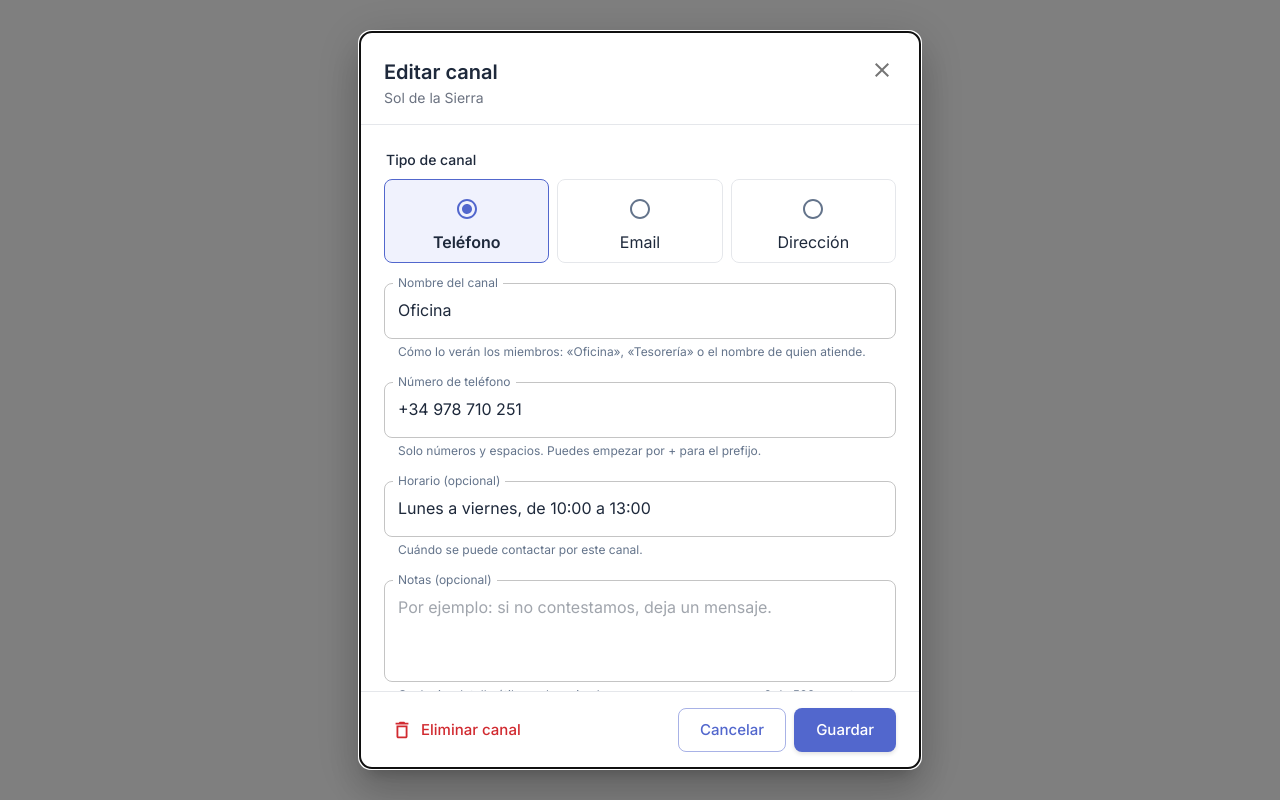
Scenario: ContactChannelEditor › AC10 closing › asks before closing with changes, from Cerrar
Type " y jueves" into the field labelled "Horario (opcional)" at (640, 509), box [384, 481, 896, 537]
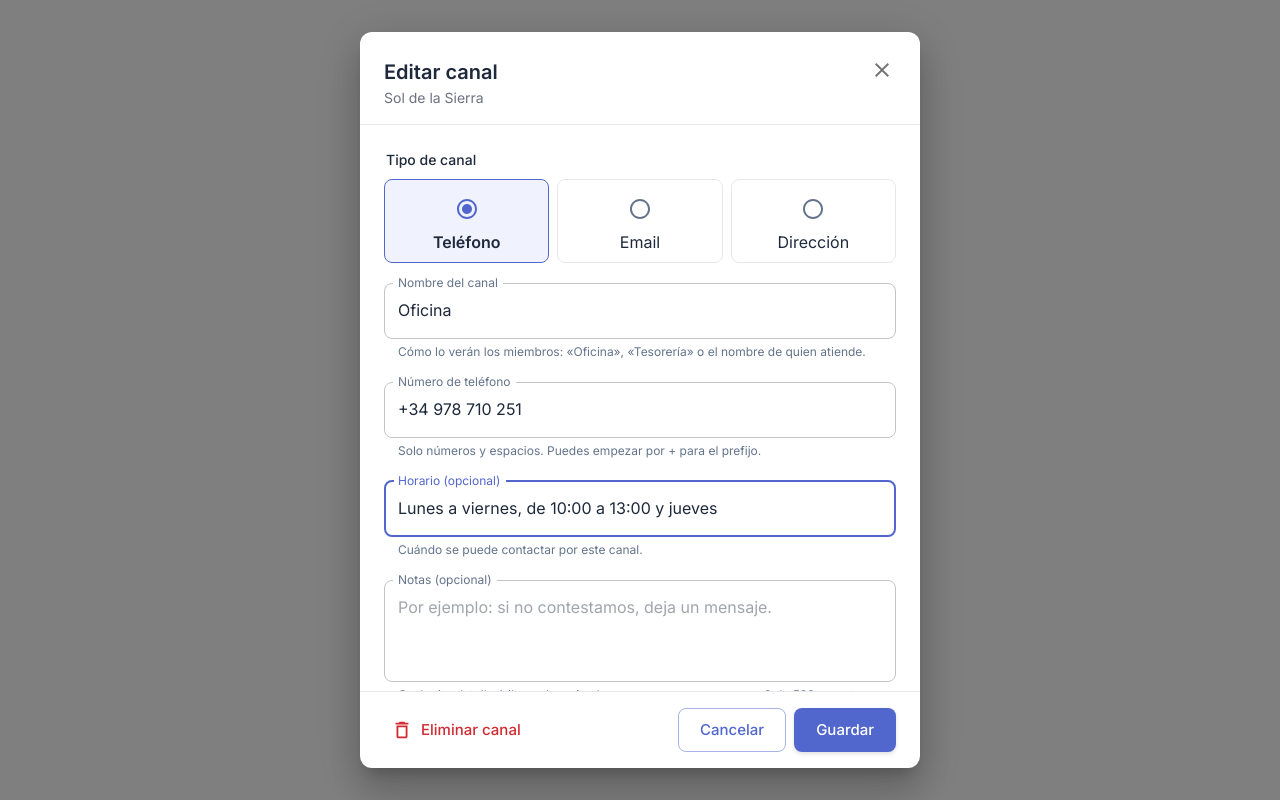
Click the button named "Cerrar" at (882, 70), box [860, 48, 904, 92]
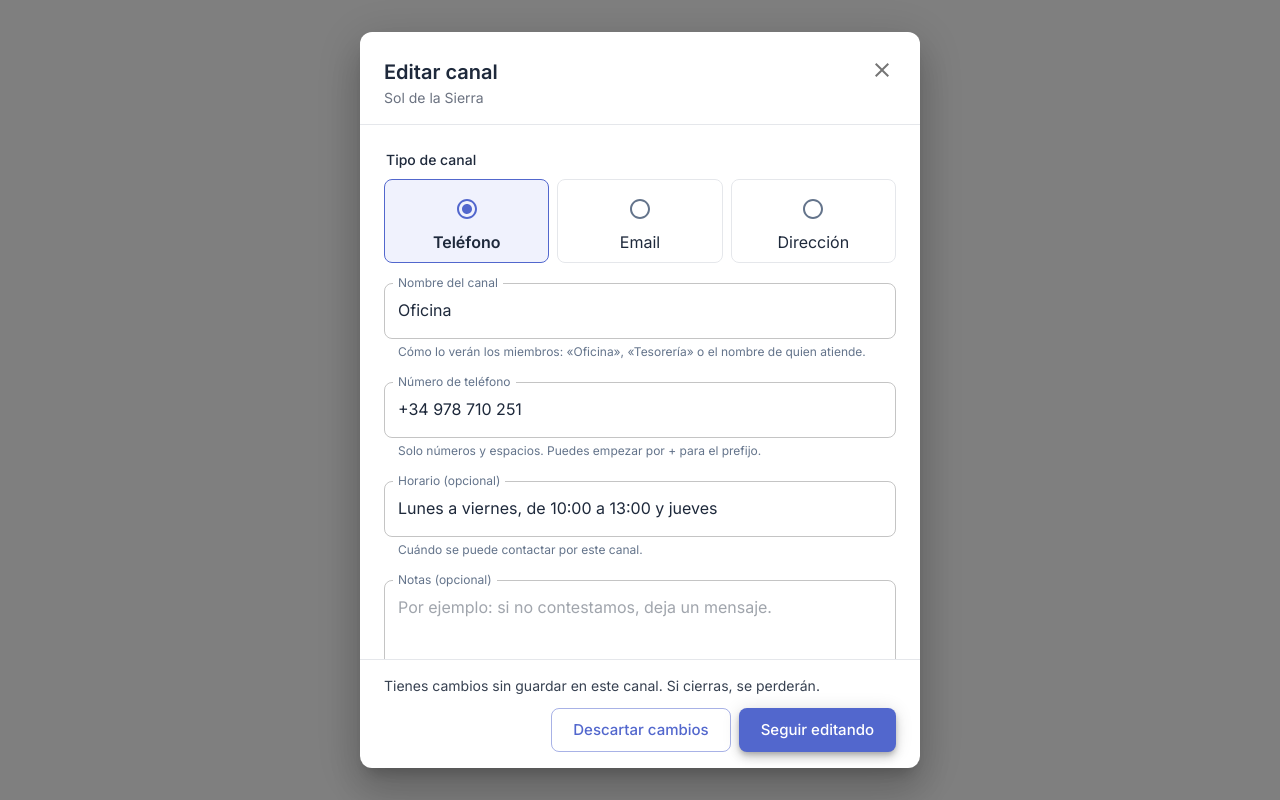
Now the message reads "Tienes cambios sin guardar en este canal. Si cierras, se perderán.", box [384, 677, 820, 694]
Now the button "Seguir editando" is shown, box [739, 708, 896, 752]
Now the button "Descartar cambios" is shown, box [551, 708, 731, 752]
